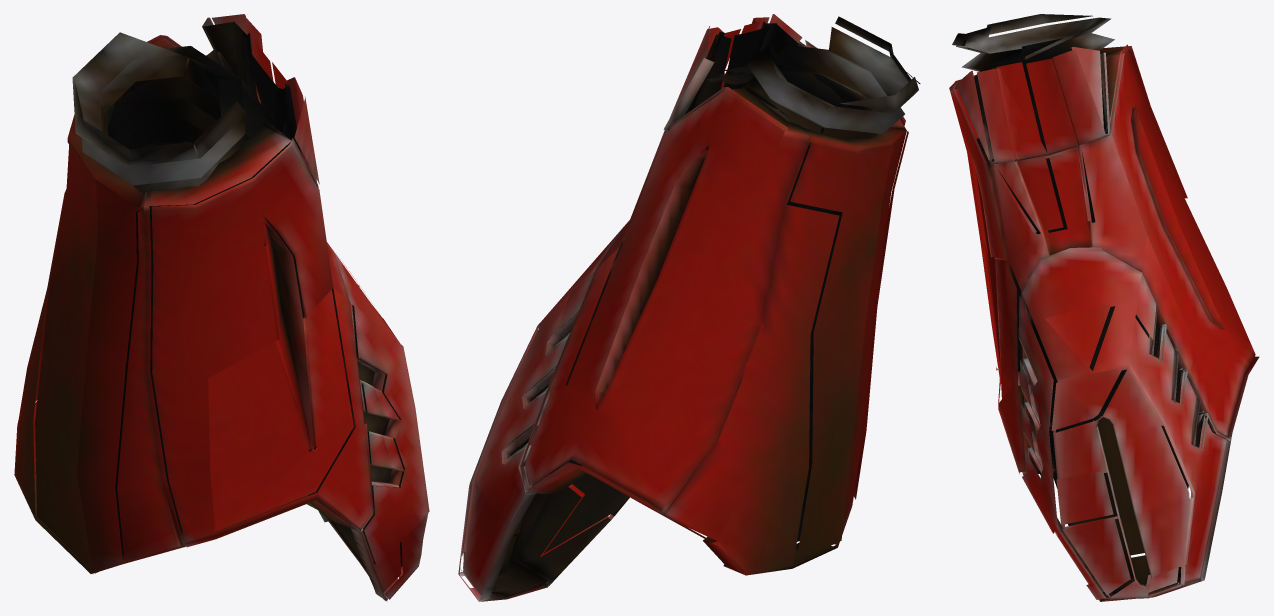
File: right fore arm.glb
3 renders of one model, left to right at view 1: azimuth 30°, elevation 25°; view 2: azimuth 150°, elevation 25°; view 3: azimuth 270°, elevation 25°, orthographic. The views are drawn at different scales.
Parts seen in each view (by area): view 1: Object_88, Object_88.001; view 2: Object_88.001, Object_88; view 3: Object_88, Object_88.001.
Boxes of the visible parts, x1,y1,x2,y2 form: Object_88: (14,17,427,601); Object_88.001: (34,14,429,601); Object_88.001: (461,14,920,596); Object_88: (458,17,915,601); Object_88: (955,17,1259,601); Object_88.001: (949,14,1255,599).
Bounding box in the file's own units: 0.7132 × 1.12 × 0.6349.
Materials: 1 (1 with a texture image).
